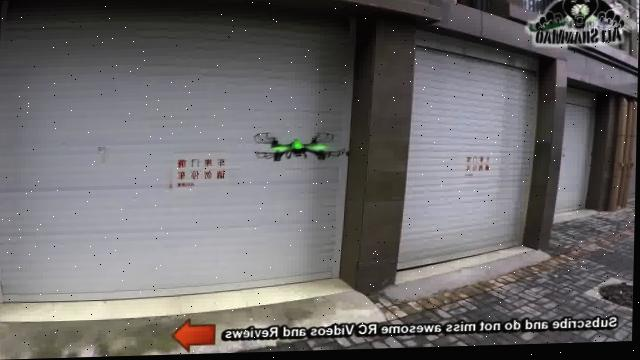drone: (250, 124, 353, 170)
